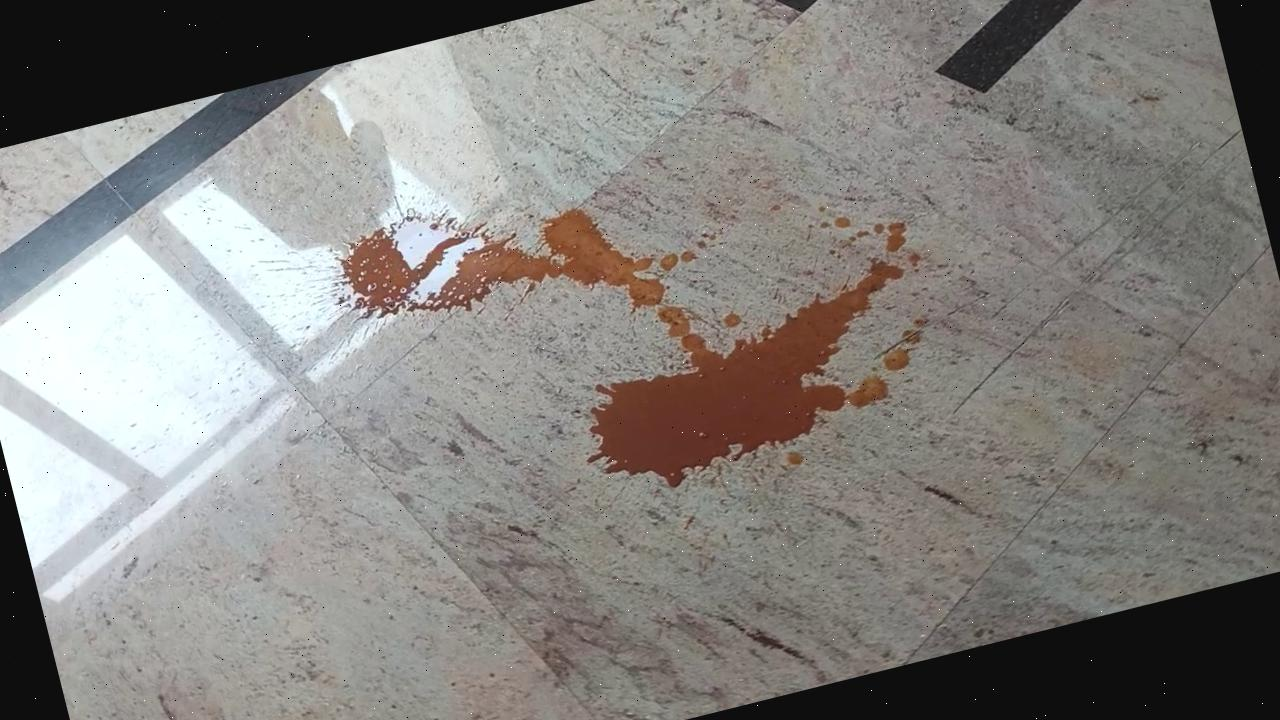dirty_floor: (316, 100, 951, 560)
